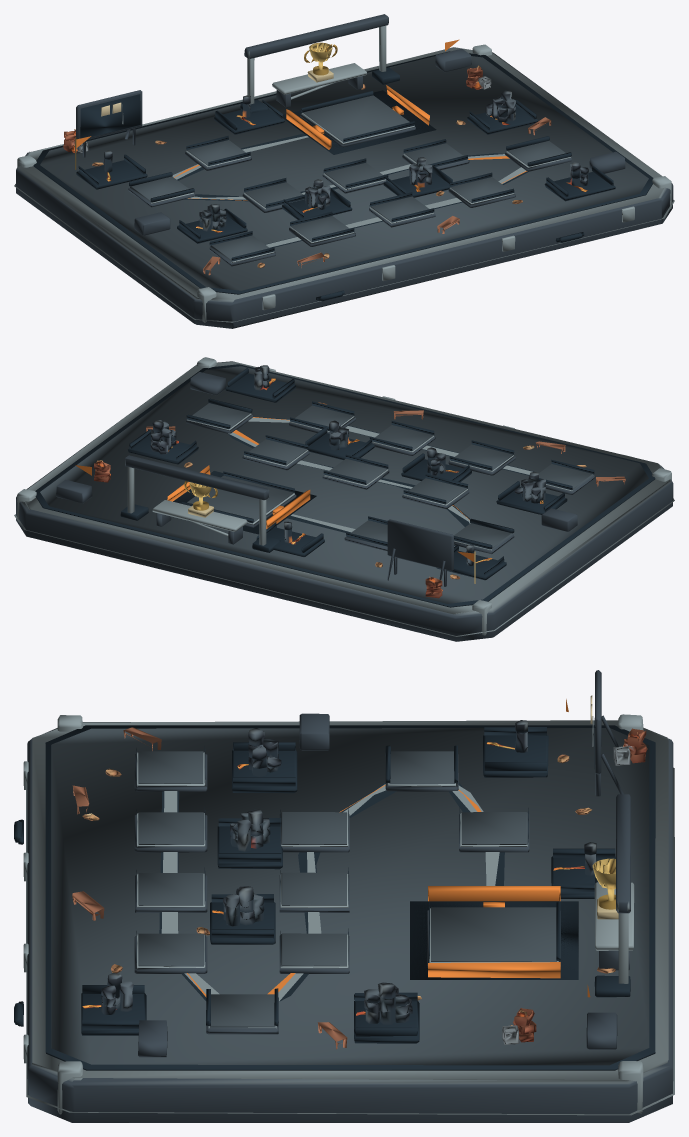
File: vulkara.far.glb
3 views of the same model, one above another, from view 1: azimuth 30°, elevation 25°; view 2: azimuth 150°, elevation 25°; view 3: azimuth 270°, elevation 25° (orthographic). The views are drawn at different scales.
Visible parts, largest first — view 1: Static tournament table • material batches; view 2: Static tournament table • material batches; view 3: Static tournament table • material batches.
Boxes of the visible parts, bbox=[...] form: Static tournament table • material batches: bbox=[14, 14, 674, 328]; Static tournament table • material batches: bbox=[14, 357, 674, 641]; Static tournament table • material batches: bbox=[14, 670, 674, 1122].
Size of the model in its own units: 24.08 by 5 by 18.4.
